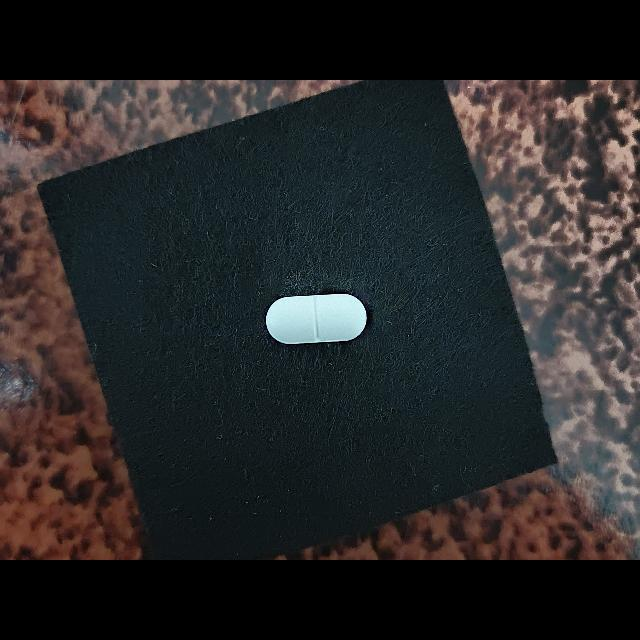Intact Pill: (265, 294, 367, 345)
